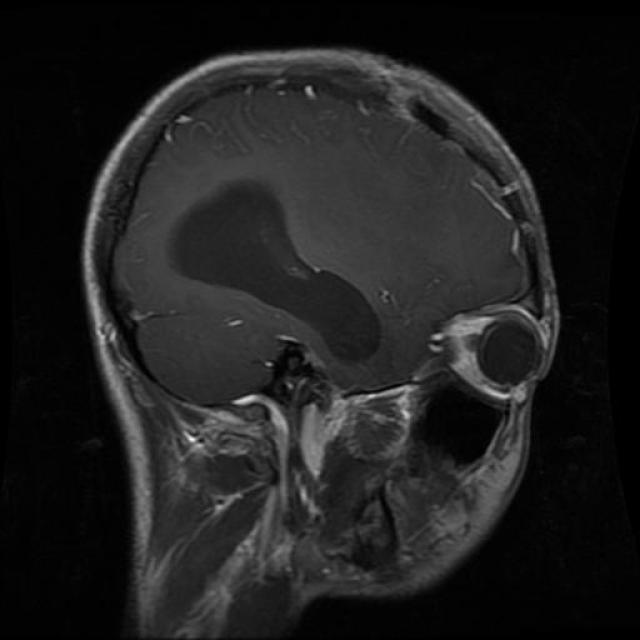glioma: (172, 174, 392, 360)
